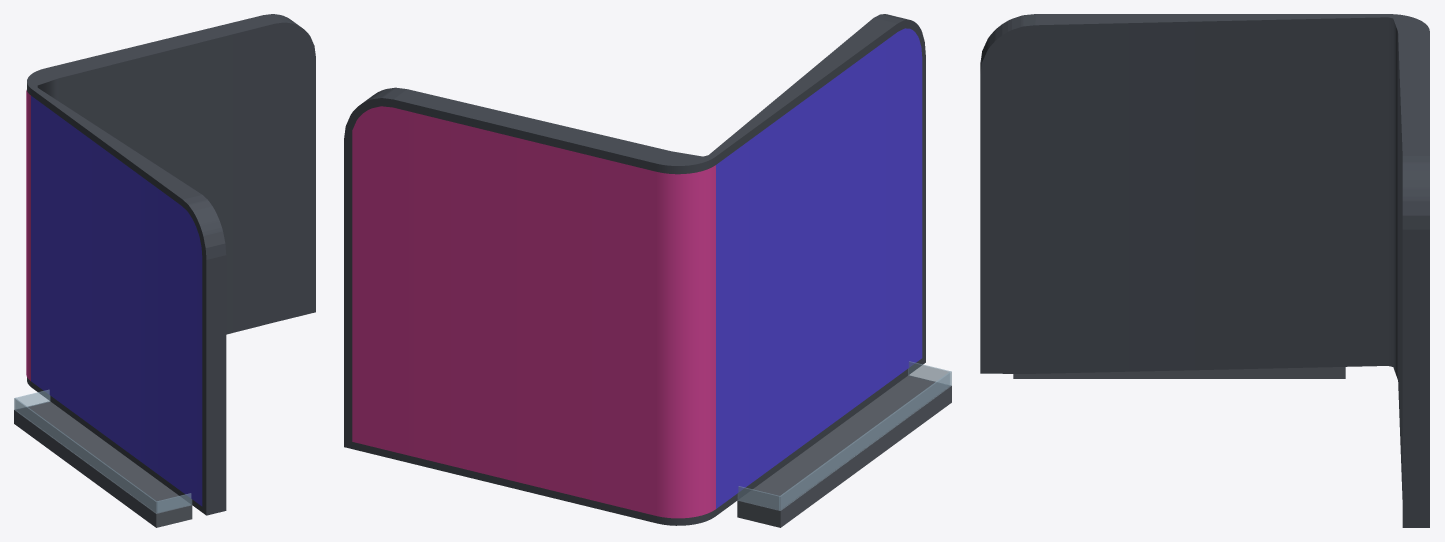
Rendered from nyc-tsx-broadway-screen.glb.
3 views of the same model, side by side, from view 1: azimuth 30°, elevation 25°; view 2: azimuth 150°, elevation 25°; view 3: azimuth 270°, elevation 25° (orthographic). The views are drawn at different scales.
Parts seen in each view (by area): view 1: TSX Broadway Screen; view 2: TSX Broadway Screen; view 3: TSX Broadway Screen.
Boxes of the visible parts, x1,y1,x2,y2 form: TSX Broadway Screen: [14, 14, 315, 527]; TSX Broadway Screen: [344, 14, 951, 527]; TSX Broadway Screen: [980, 14, 1429, 527].
Bounding box in the file's own units: 31.79 × 29.1 × 32.56.
